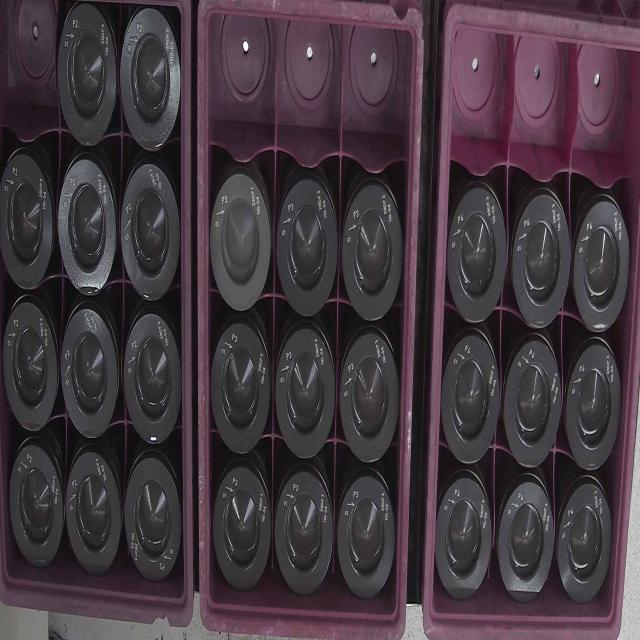P2: (121, 7, 178, 155), (57, 160, 116, 296), (120, 163, 176, 305), (58, 5, 115, 144), (124, 458, 180, 592), (62, 308, 120, 437), (1, 303, 58, 433), (65, 451, 122, 576), (1, 151, 52, 289), (123, 317, 179, 441), (10, 443, 63, 573)
P3: (344, 181, 401, 323), (212, 172, 271, 308), (277, 177, 336, 312), (276, 326, 335, 459), (341, 332, 396, 463), (213, 321, 268, 448), (215, 464, 269, 592), (276, 474, 332, 596), (340, 478, 393, 603)
P4: (441, 333, 500, 468), (504, 343, 564, 471), (512, 190, 567, 328), (572, 200, 627, 338), (566, 344, 622, 476), (450, 186, 503, 321), (436, 476, 493, 600), (497, 485, 555, 604), (560, 484, 613, 610)
